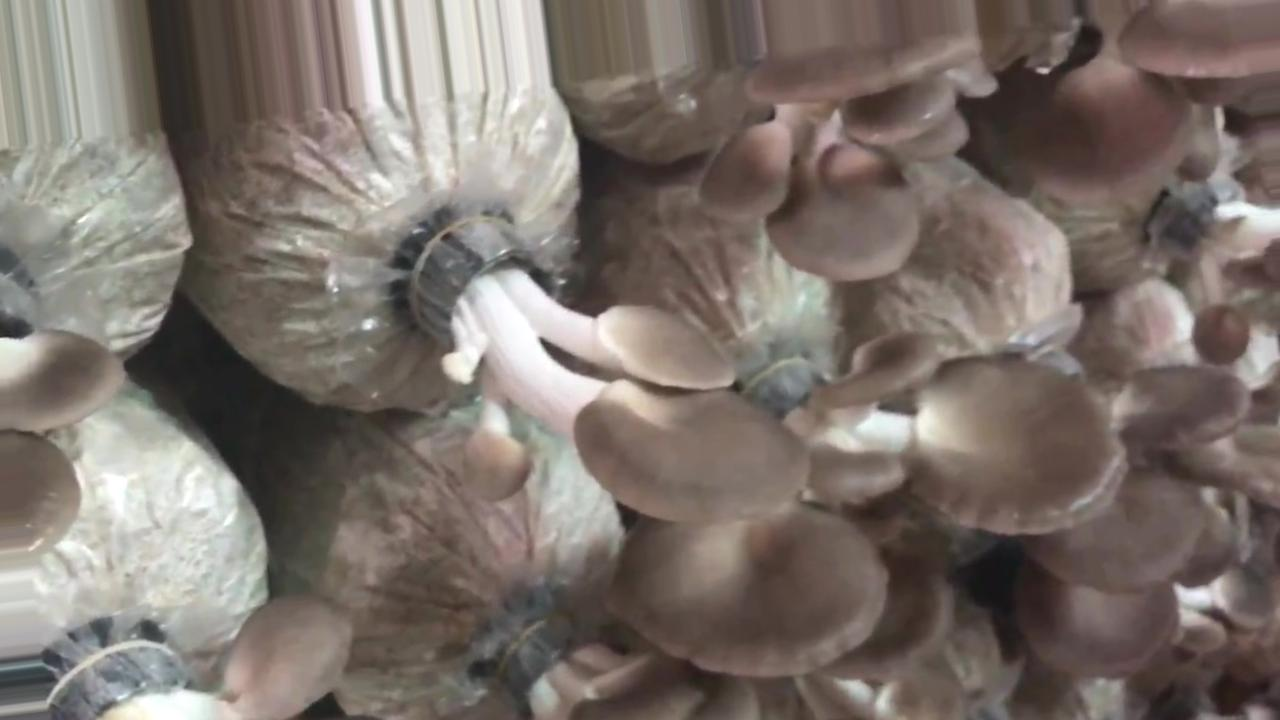nam: (623, 335, 1125, 678), (409, 212, 803, 532), (698, 34, 998, 288), (1, 291, 110, 569)
